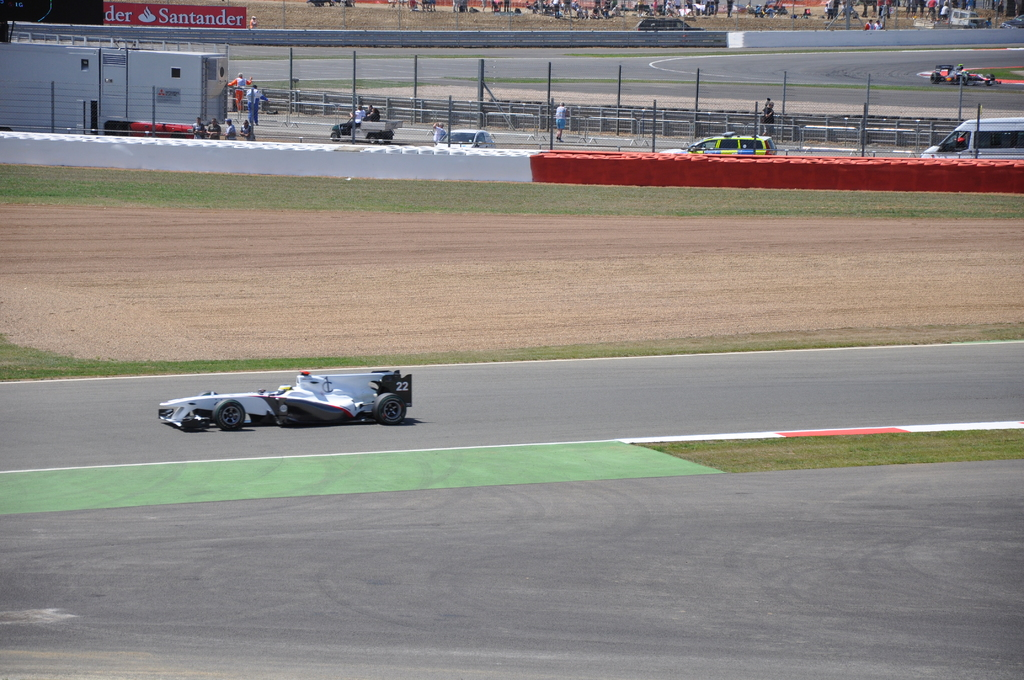Car: (156, 367, 412, 434)
